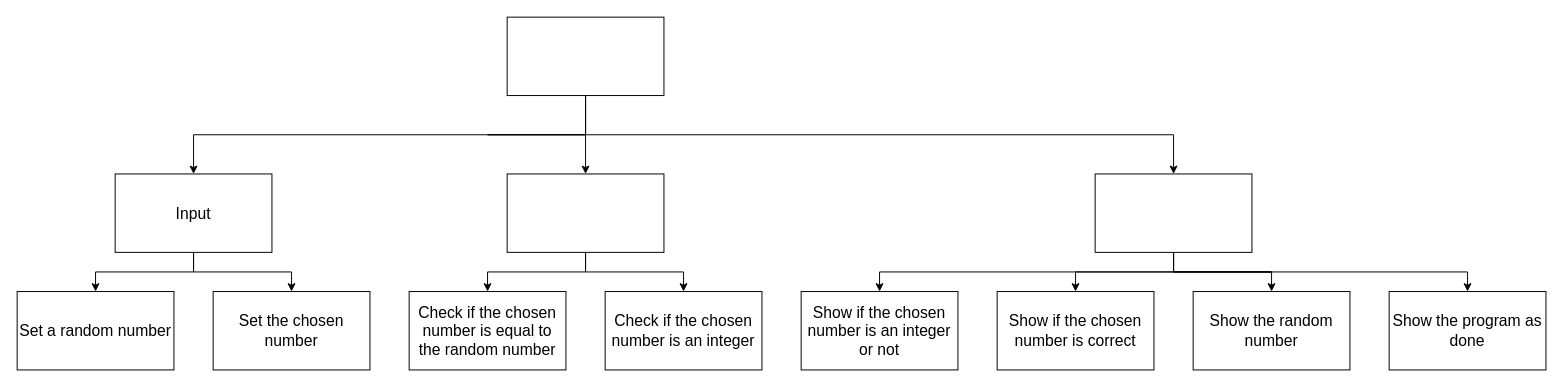
The diagram is 1563 pixels wide and 387 high, and some of its shapes have lost their labels. Each missing label, with the box of its shape:
Guessing a Hidden Number: (506, 16, 664, 96)
Output: (1094, 173, 1252, 252)
Process: (506, 173, 664, 252)
